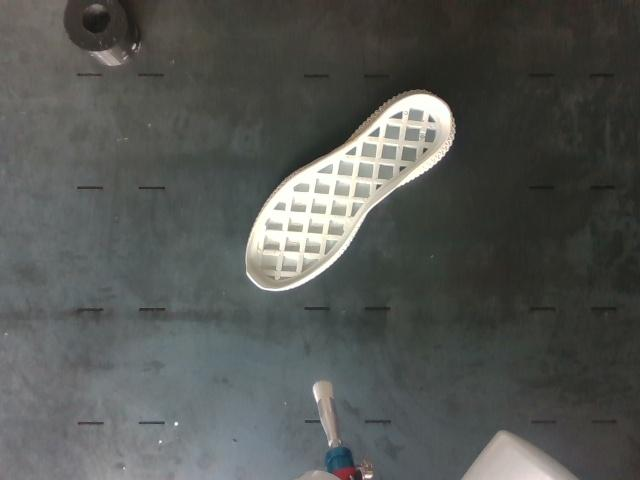shoes: (246, 94, 450, 289)
